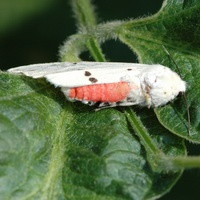insect: (8, 62, 185, 107)
